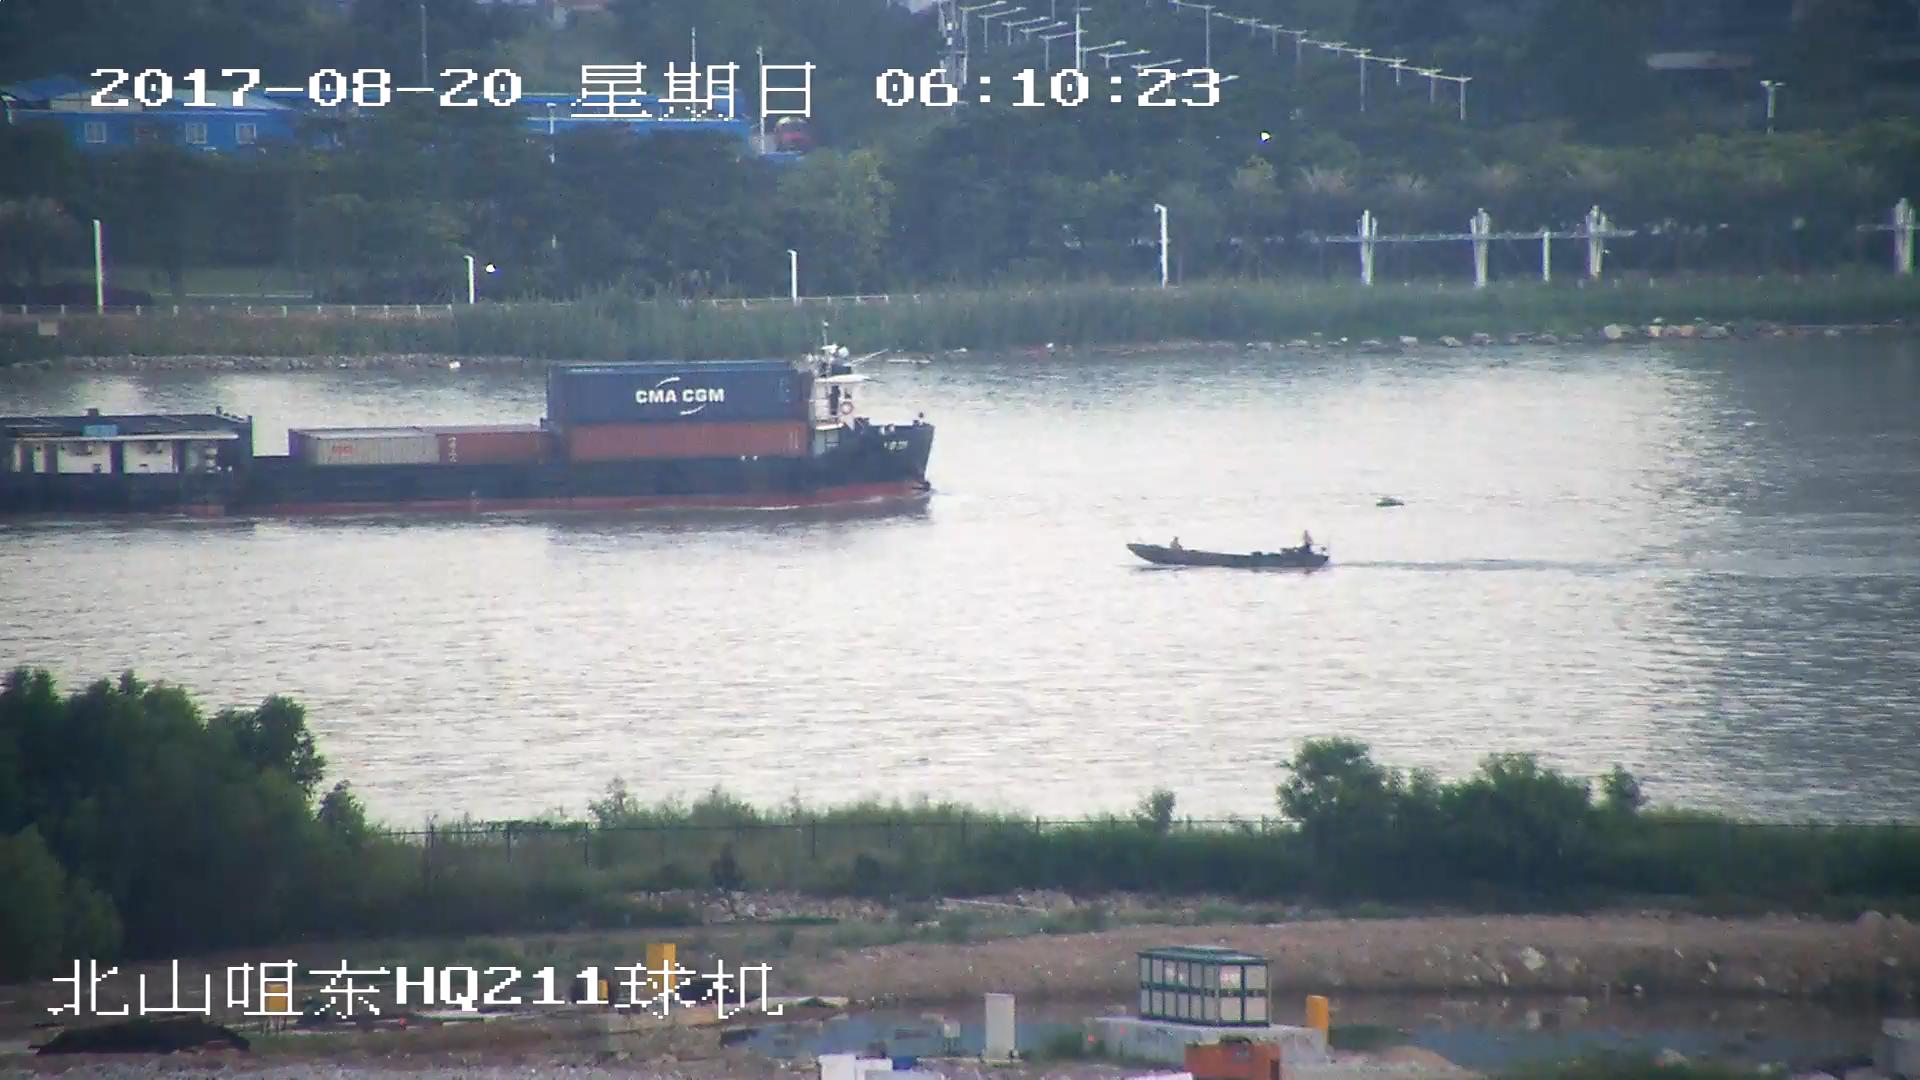container ship: (1, 323, 934, 520)
fishing boat: (1131, 529, 1325, 576)
